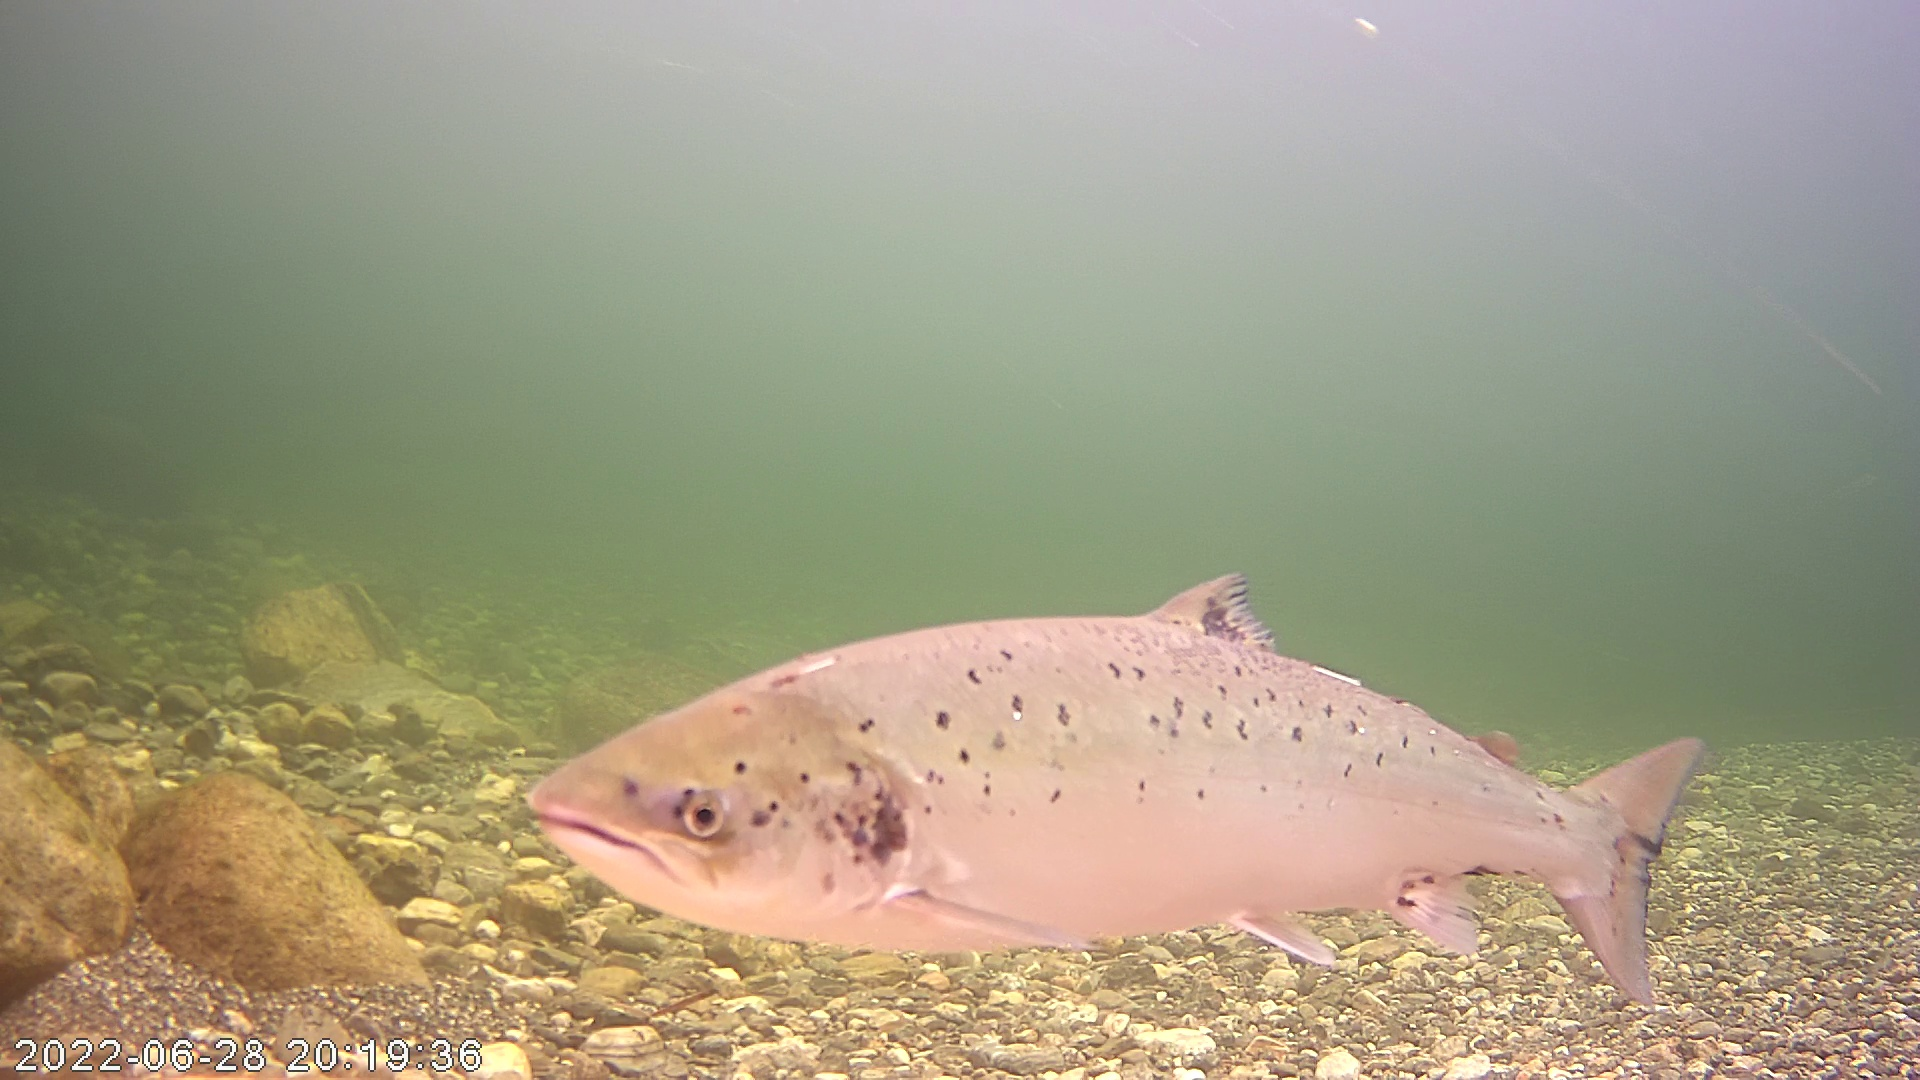salmon: (516, 553, 1710, 1011)
